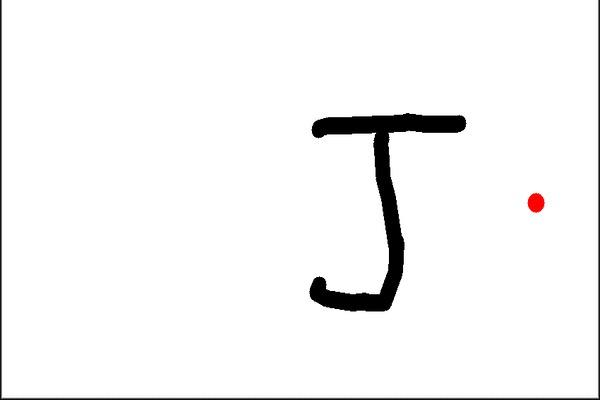J: (299, 106, 471, 321)
